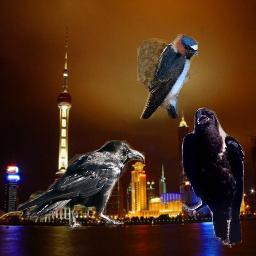Crow: (16, 139, 145, 232), (181, 107, 245, 248)
Swallow: (137, 34, 198, 119)
